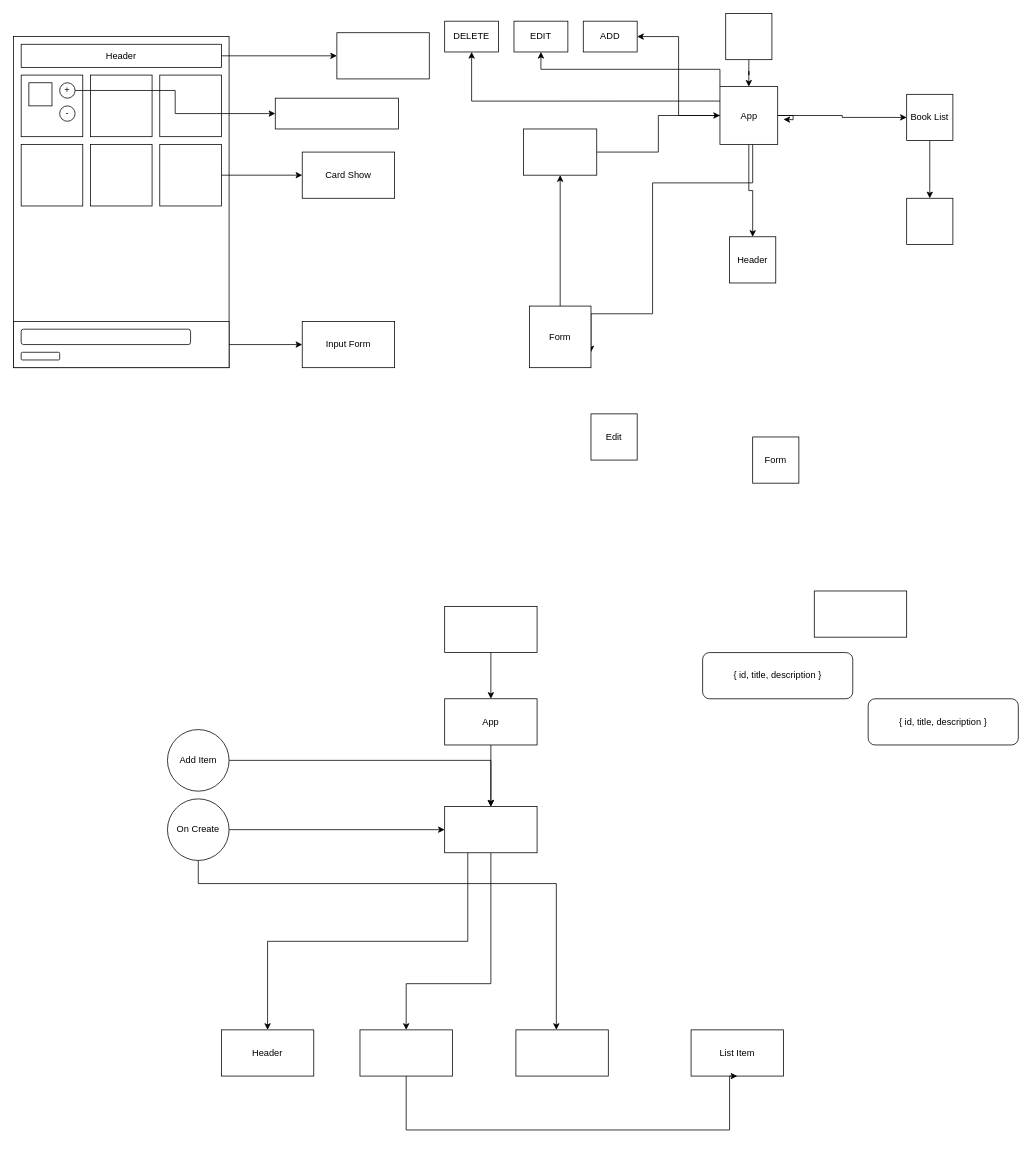
The diagram is 1032 pixels wide and 1150 high, and some of its shapes have lost their labels. The shapes that lost their labels are listed below. From the top down, each one's centre as x and y in pixels, then its label:
the point at 382,55: Header/Introdcution
the point at 748,36: Index
the point at 40,94: Title
the point at 336,113: Delete/Edit Functionality
the point at 560,151: Book
the point at 929,221: Show Book
the point at 490,629: Main
the point at 860,613: Structure
the point at 490,829: Todo List
the point at 405,1052: Create List Items
the point at 561,1052: ModalBox
